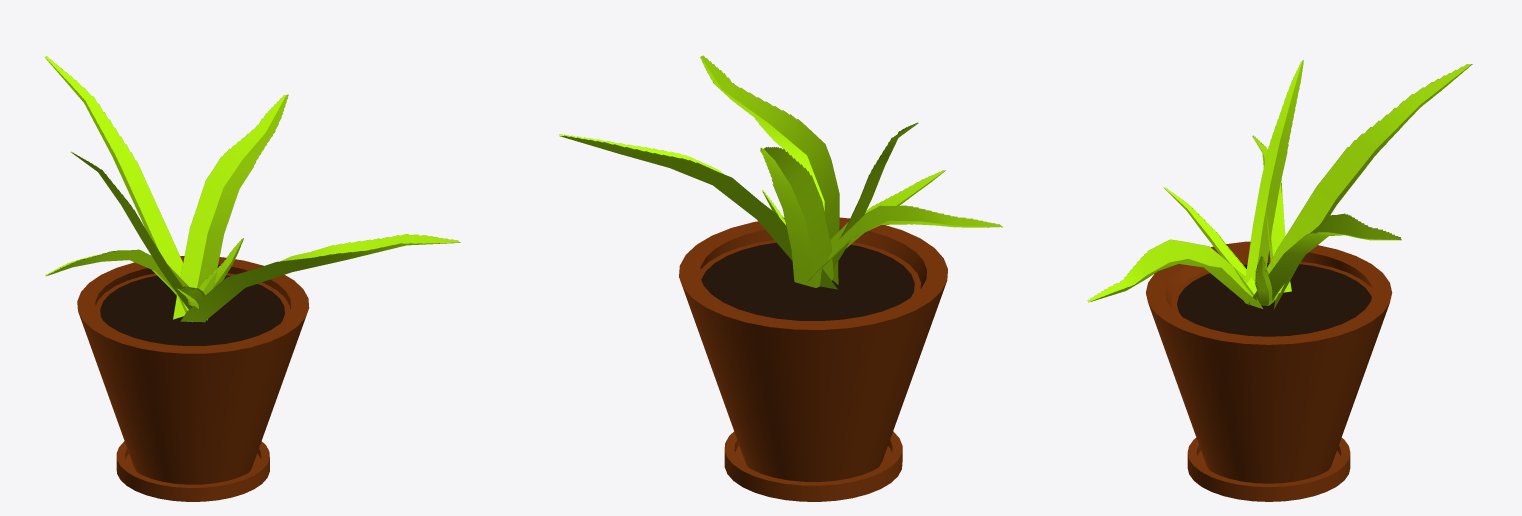
File: Aloe.fbx
The picture shows the model from 3 angles, left to right: view 1: azimuth 30°, elevation 25°; view 2: azimuth 150°, elevation 25°; view 3: azimuth 270°, elevation 25°; orthographic projection. The views are drawn at different scales.
Visible parts, largest first — view 1: Circle, Grass Blade.004, Grass Blade.002, Grass Blade.001, Grass Blade.006, Grass Blade.003, Grass Blade.007; view 2: Circle, Grass Blade.001, Grass Blade.002, Grass Blade.004, Grass Blade.003, Grass Blade.006, Grass Blade.005; view 3: Circle, Grass Blade.001, Grass Blade.006, Grass Blade.002, Grass Blade.004, Grass Blade.005, Grass Blade.003, Grass Blade.007.
Part boxes in pixels (box(x1,y1,x2,y2)): Circle: box(77, 256, 309, 501); Grass Blade.004: box(173, 94, 288, 320); Grass Blade.002: box(180, 234, 460, 322); Grass Blade.001: box(45, 56, 192, 322); Grass Blade.006: box(70, 151, 192, 309); Grass Blade.003: box(45, 249, 188, 294); Grass Blade.007: box(199, 238, 243, 291); Circle: box(679, 217, 947, 501); Grass Blade.001: box(760, 147, 833, 287); Grass Blade.002: box(700, 55, 839, 284); Grass Blade.004: box(559, 134, 837, 289); Grass Blade.003: box(805, 205, 1002, 283); Grass Blade.006: box(832, 122, 918, 268); Grass Blade.005: box(846, 170, 945, 248); Circle: box(1146, 241, 1392, 501); Grass Blade.001: box(1253, 64, 1472, 309); Grass Blade.006: box(1245, 60, 1303, 283); Grass Blade.002: box(1087, 239, 1263, 309); Grass Blade.004: box(1248, 213, 1401, 305); Grass Blade.005: box(1163, 187, 1259, 302); Grass Blade.003: box(1252, 135, 1291, 293); Grass Blade.007: box(1255, 256, 1274, 305).
Bounding box in the file's own units: 110 × 104 × 102.
